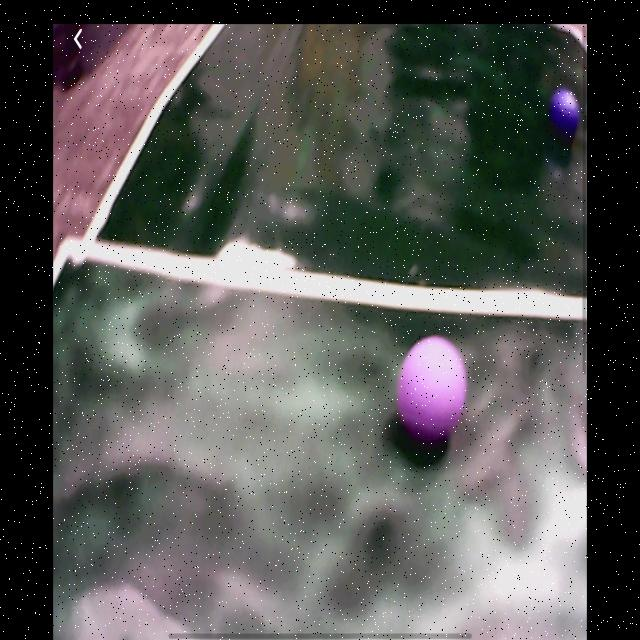ball: (397, 337, 469, 443), (549, 88, 580, 144)
